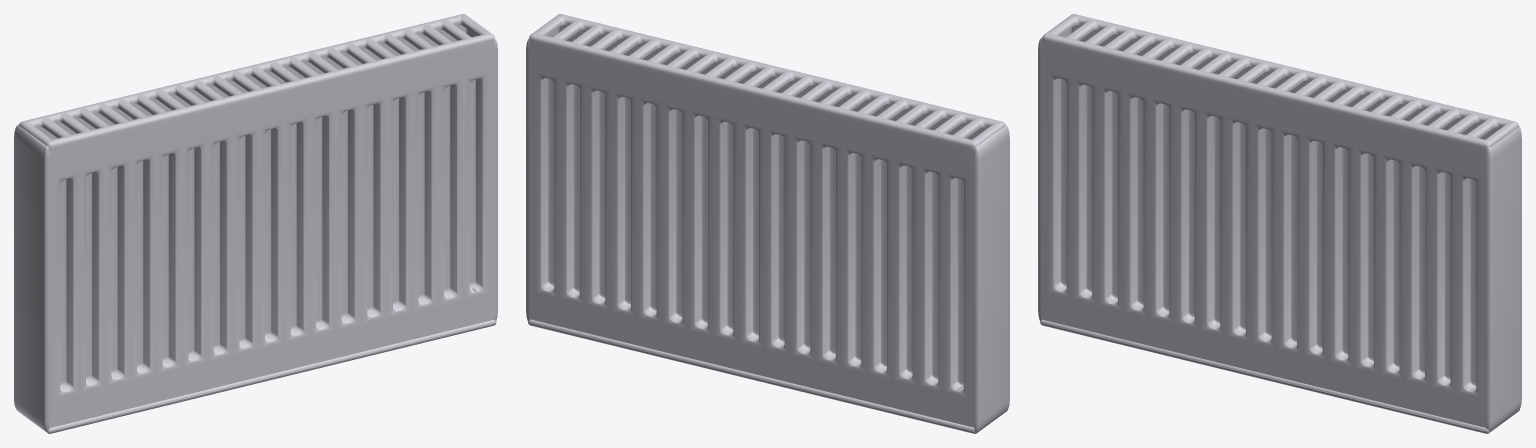
File: heating_battery.glb
3 renders of one model, left to right at view 1: azimuth 30°, elevation 25°; view 2: azimuth 150°, elevation 25°; view 3: azimuth 330°, elevation 25°, orthographic.
Parts seen in each view (by area): view 1: Radiator; view 2: Radiator; view 3: Radiator.
Part boxes in pixels (x1=…): Radiator: x1=14, y1=14, x2=497, y2=433; Radiator: x1=526, y1=14, x2=1009, y2=433; Radiator: x1=1038, y1=14, x2=1521, y2=433.
Bounding box in the file's own units: 12.43 × 7.61 × 1.57.
1 material, 1 textured.
